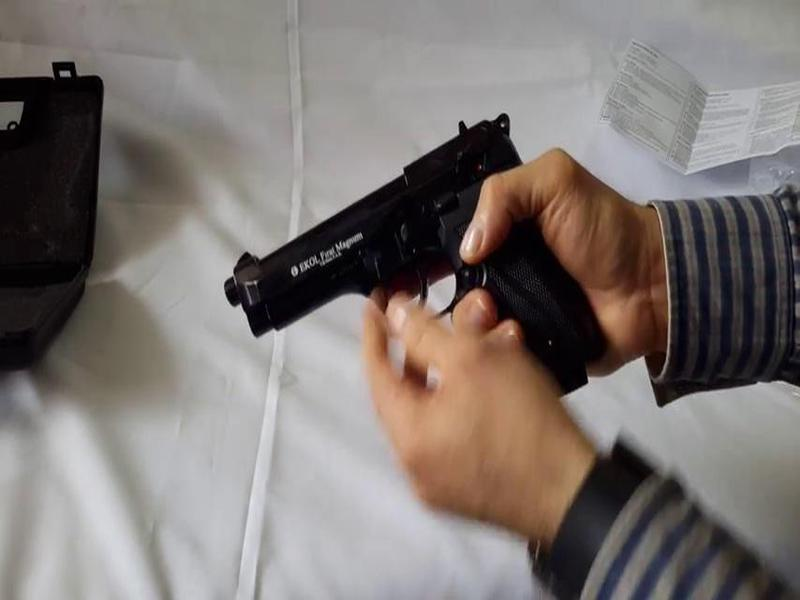Pistola: (226, 107, 610, 395)
